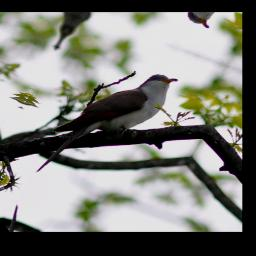Cuckoo: (27, 51, 180, 201)
